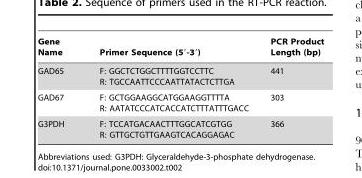table: (37, 36, 323, 138)
table column: (81, 36, 258, 138), (258, 36, 323, 138), (37, 36, 81, 138)
table column header: (37, 36, 323, 61)
table row: (37, 61, 323, 89), (37, 89, 323, 115), (37, 36, 323, 61), (37, 115, 323, 138)
